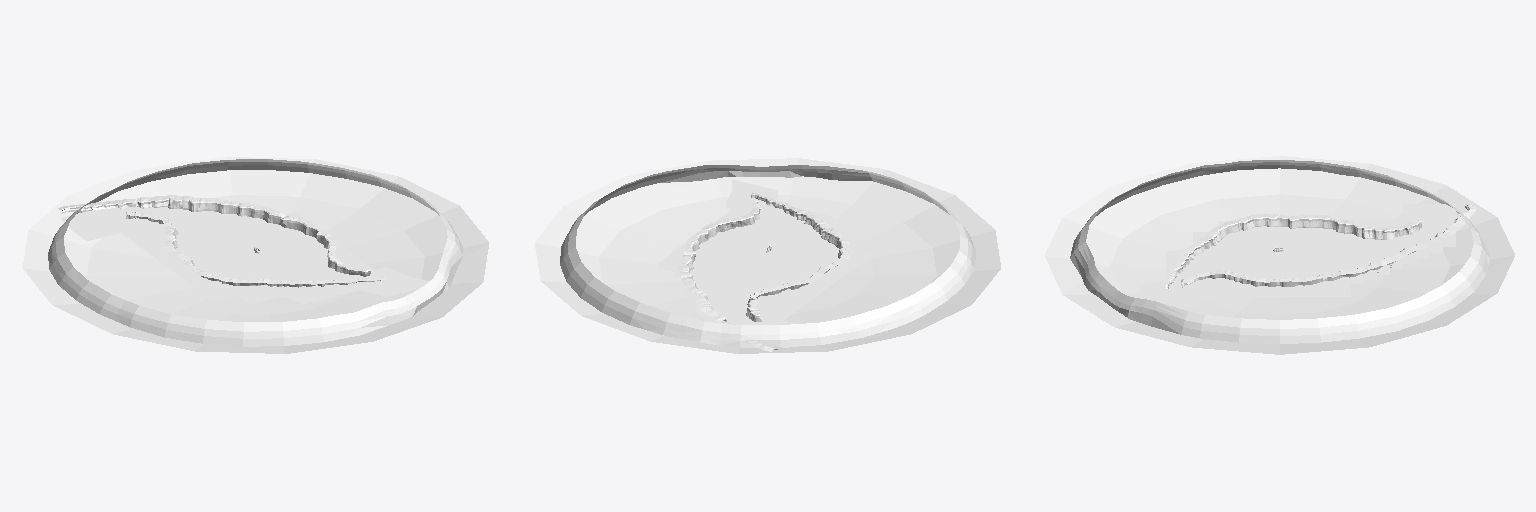
The picture shows the model from 3 angles: view 1: azimuth 30°, elevation 25°; view 2: azimuth 150°, elevation 25°; view 3: azimuth 270°, elevation 25°; orthographic projection.
Visible parts, largest first — view 1: body; view 2: body; view 3: body.
Boxes of the visible parts, <box> form: body: <box>23,157,488,353</box>; body: <box>535,158,1000,353</box>; body: <box>1045,156,1514,354</box>.
Bounding box in the file's own units: 6258 × 504 × 6258.